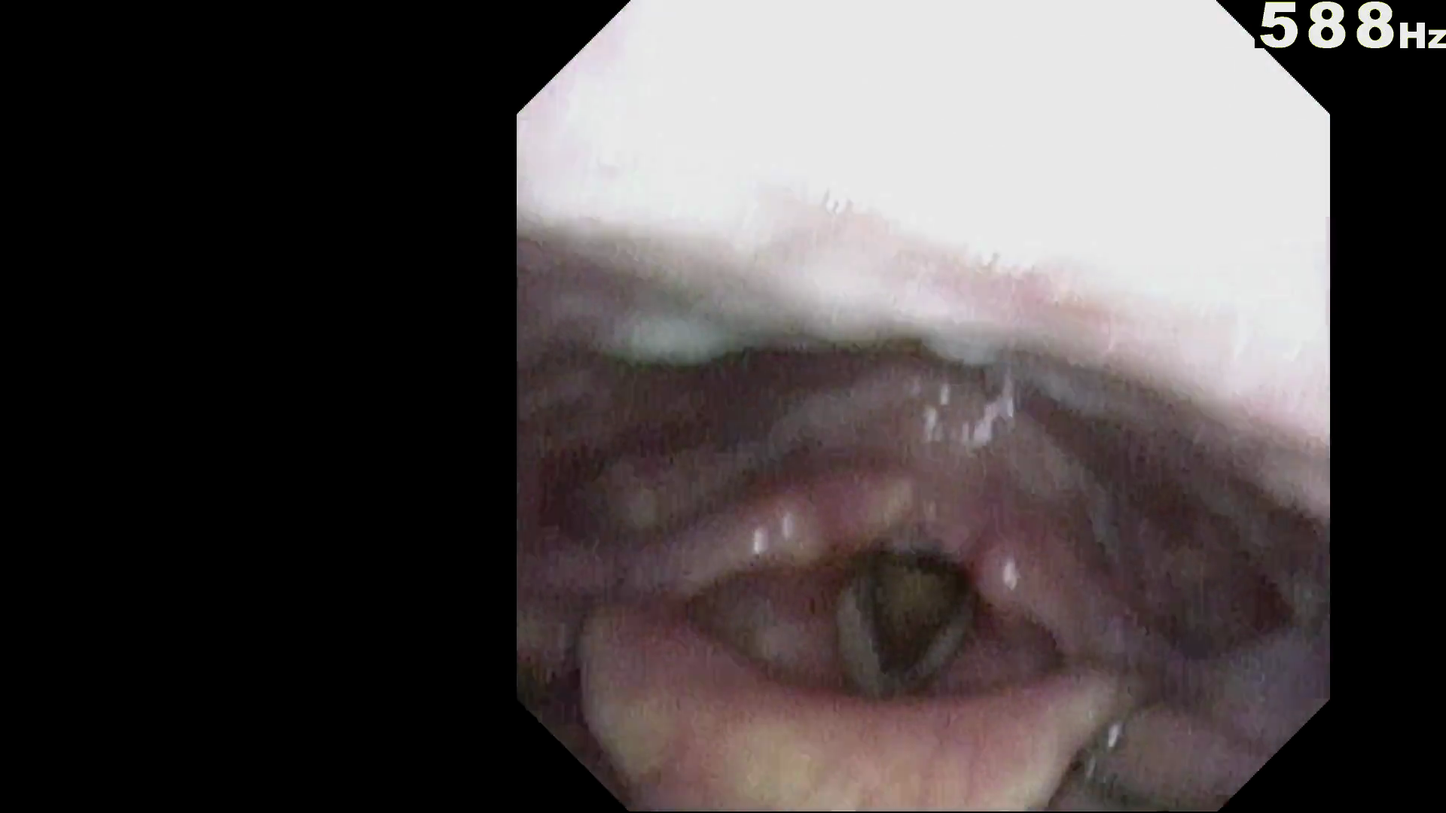epiglottis: (596, 564, 1137, 754)
trachea: (846, 511, 971, 664)
